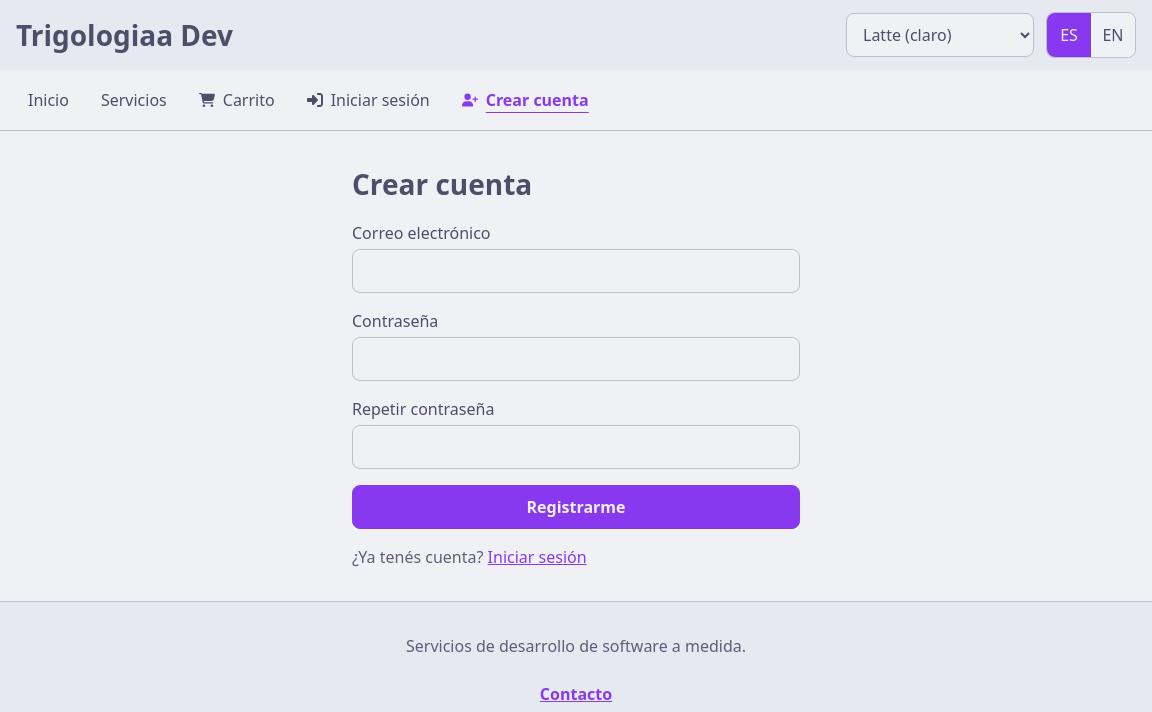
it: RegisterPage › sends the email and password to signUp and goes home
Type "ana@example.com" into the field labelled "Correo electrónico" at (576, 271), box x1=352 y1=249 x2=800 y2=293
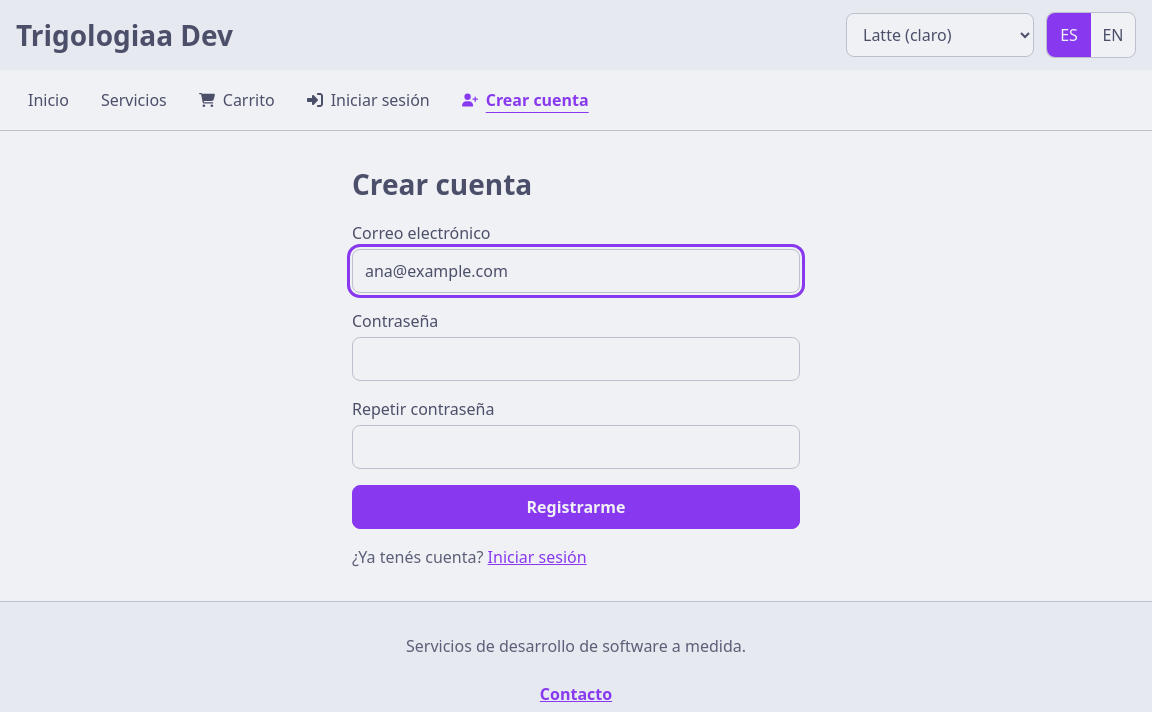
Type "secret1" into the password field labelled "Contraseña" at (576, 359), box x1=352 y1=337 x2=800 y2=381
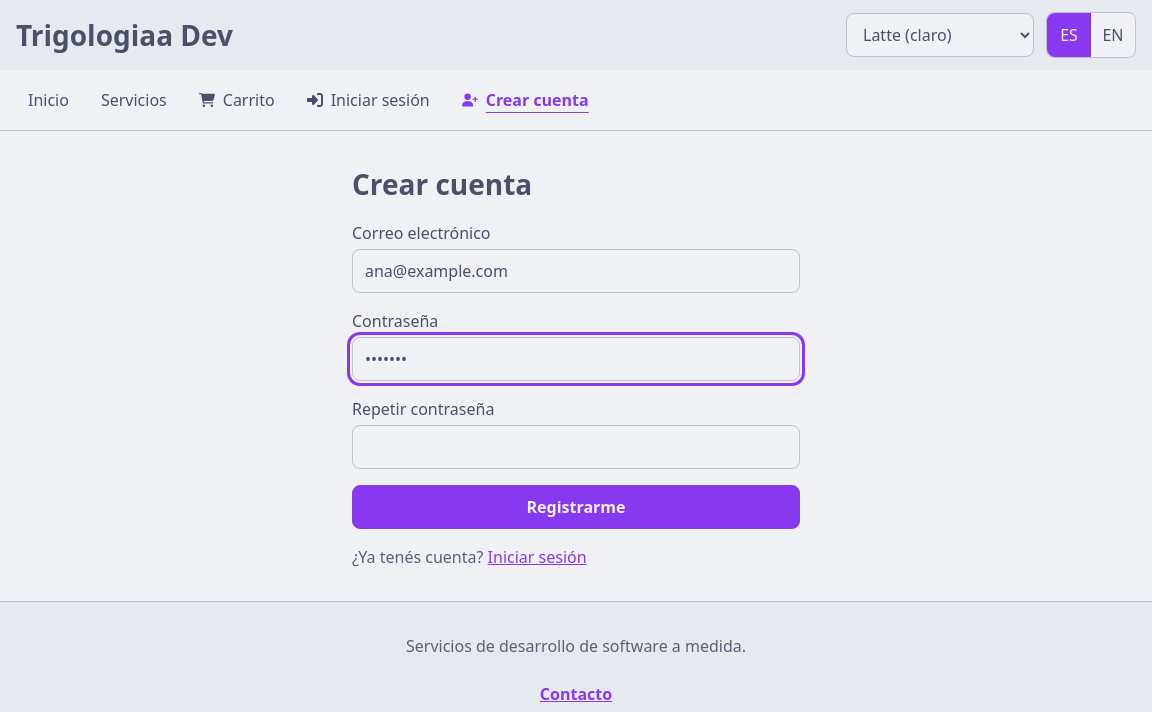
Type "secret1" into the password field labelled "Repetir contraseña" at (576, 447), box x1=352 y1=425 x2=800 y2=469
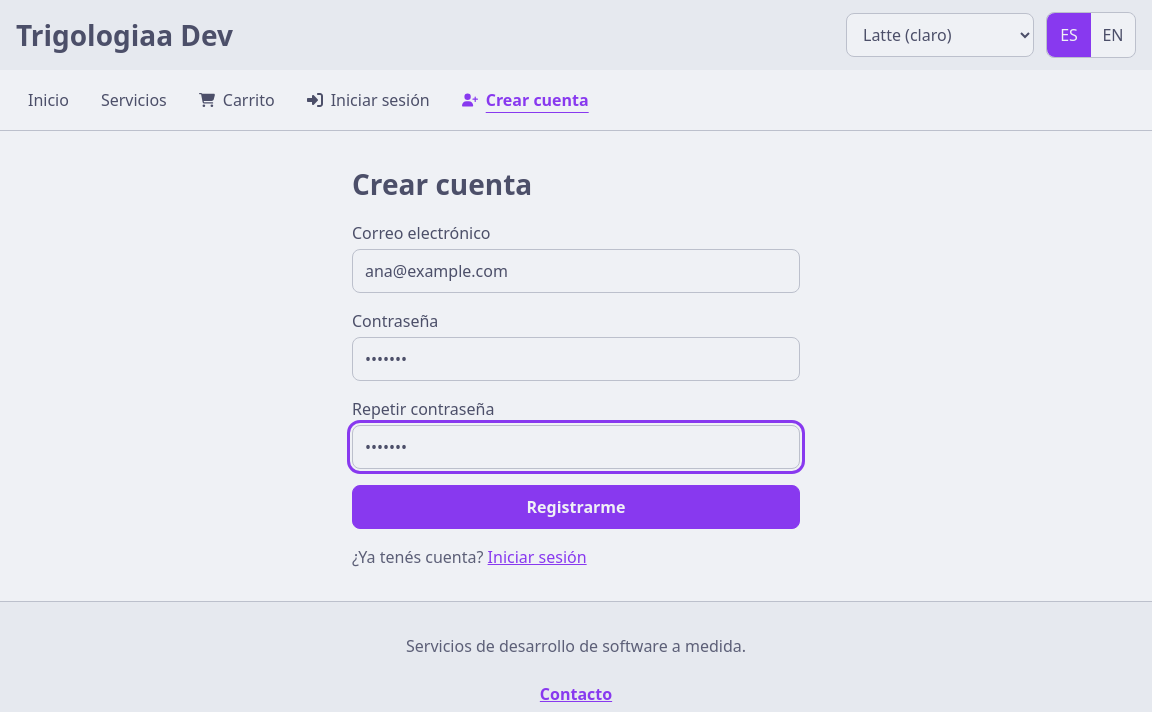
Click the button "Registrarme" at (576, 507), box x1=352 y1=485 x2=800 y2=529
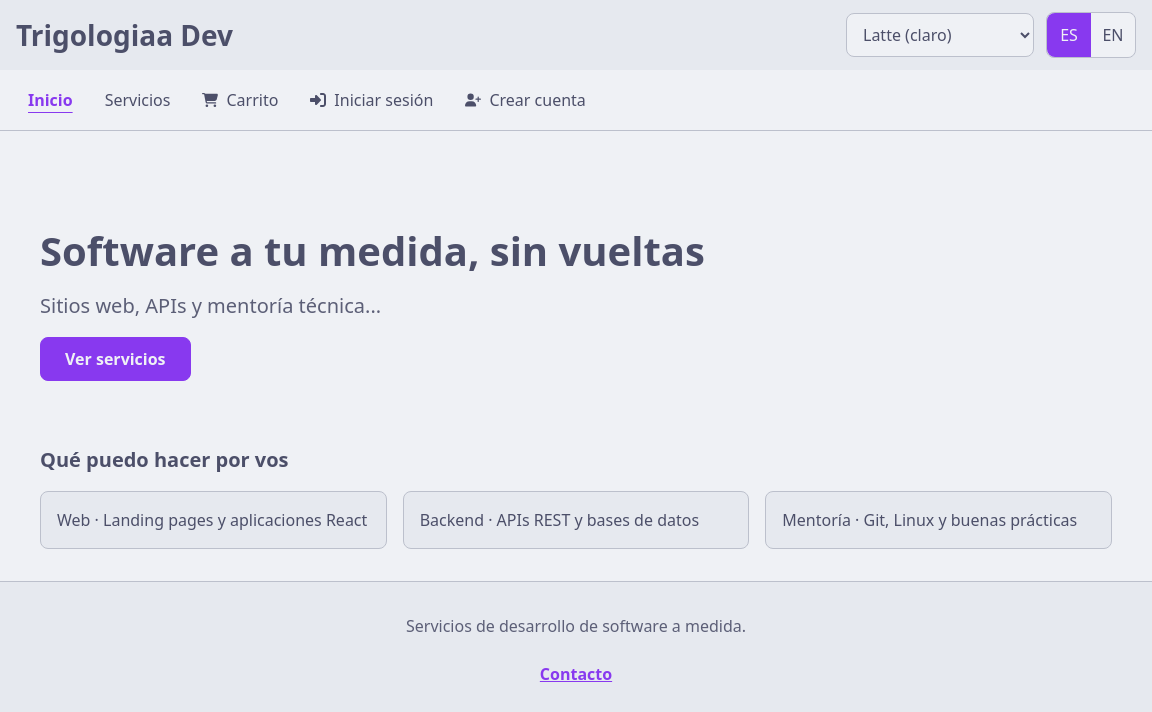
Check: the heading "Software a tu medida, sin vueltas" is shown, box x1=40 y1=227 x2=705 y2=275
